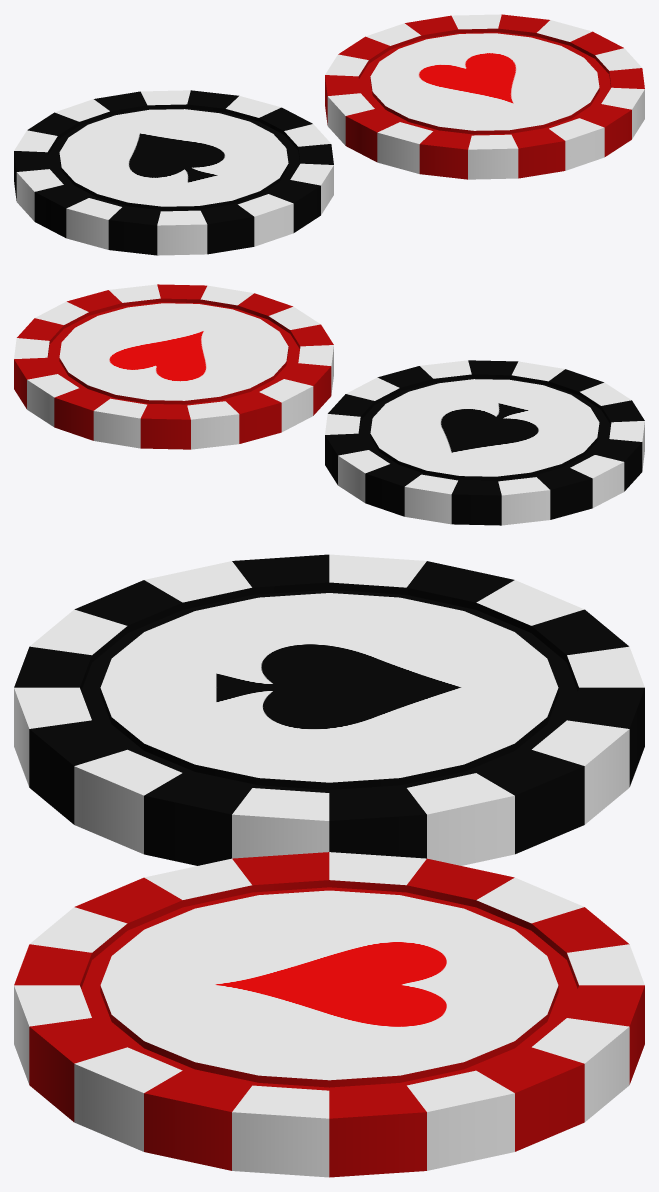
File: Fiches.fbx
3 views of the same model, one above another, from view 1: azimuth 30°, elevation 25°; view 2: azimuth 150°, elevation 25°; view 3: azimuth 270°, elevation 25° (orthographic). The views are drawn at different scales.
Visible parts, largest first — view 1: AceFiche, HeartsFiche; view 2: AceFiche, HeartsFiche; view 3: HeartsFiche, AceFiche.
Boxes of the visible parts, x1,y1,x2,y2 form: AceFiche: (14, 90, 333, 255); HeartsFiche: (325, 14, 644, 179); AceFiche: (325, 360, 644, 525); HeartsFiche: (14, 284, 333, 449); HeartsFiche: (14, 852, 644, 1177); AceFiche: (14, 554, 644, 865).
Size of the model in its own units: 4.23 by 0.2056 by 2.
4 materials, 2 textured.
